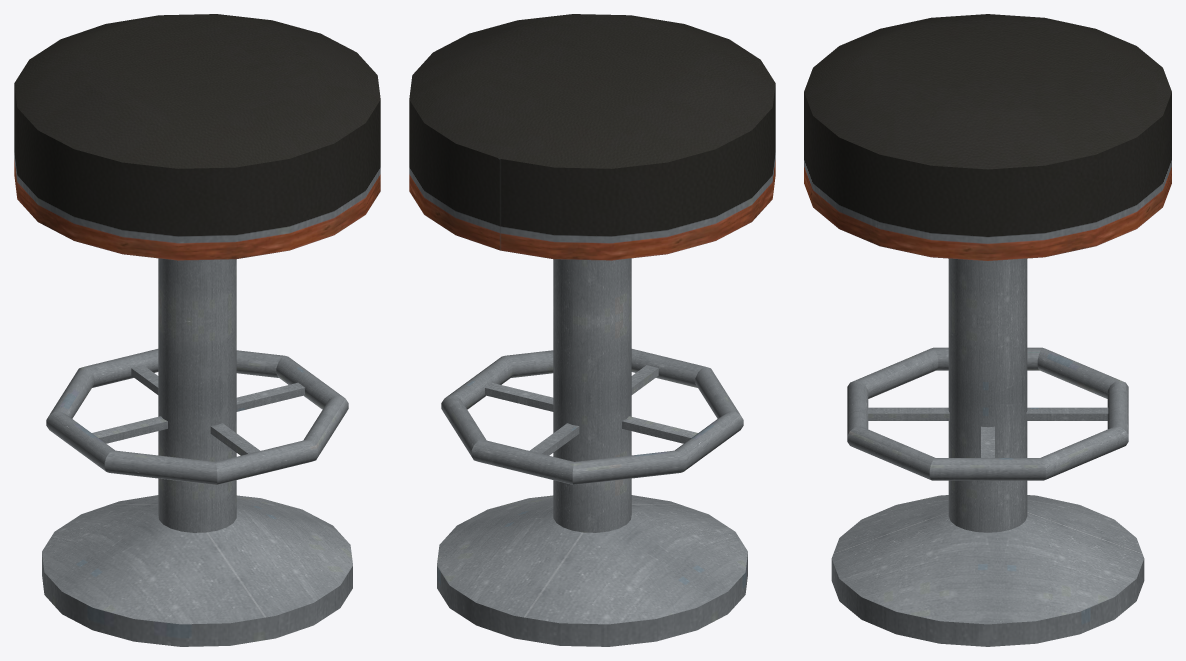
Rendered from stoolMesh00.fbx.
3 renders of one model, left to right at view 1: azimuth 30°, elevation 25°; view 2: azimuth 150°, elevation 25°; view 3: azimuth 270°, elevation 25°, orthographic.
Parts seen in each view (by area): view 1: polySurface2; view 2: polySurface2; view 3: polySurface2.
Boxes of the visible parts, box(x1,y1,x2,y2) form: polySurface2: box(14, 14, 380, 646); polySurface2: box(409, 14, 775, 646); polySurface2: box(804, 14, 1171, 646).
Size of the model in its own units: 15.66 by 24.2 by 15.66.
1 material, 1 textured.
